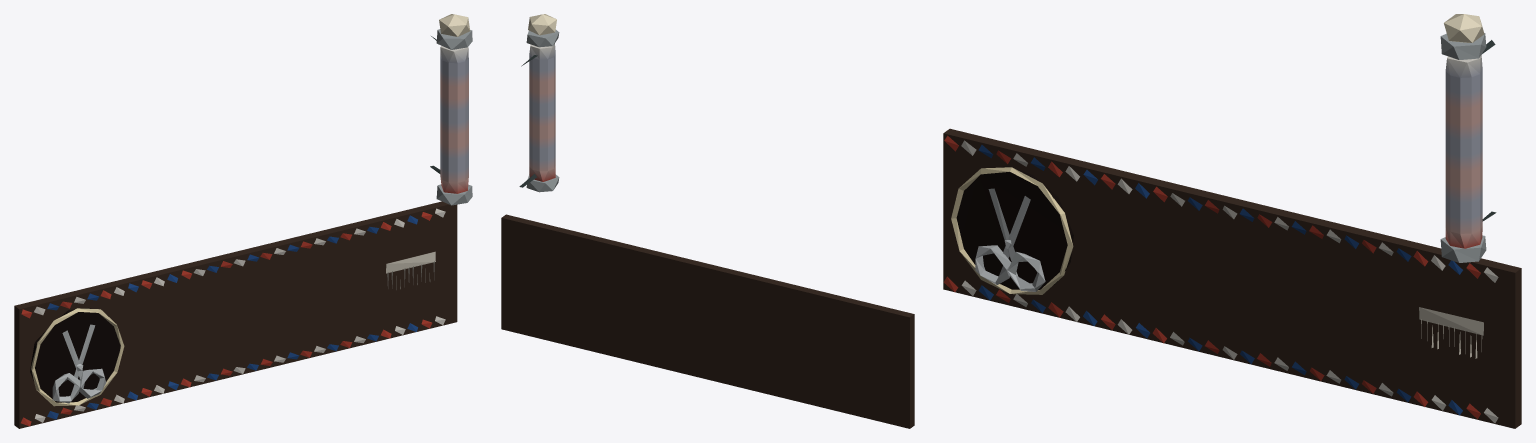
Rendered from bang_hot_toc_anh_ba_48.glb.
3 renders of one model, left to right at view 1: azimuth 30°, elevation 25°; view 2: azimuth 150°, elevation 25°; view 3: azimuth 330°, elevation 25°, orthographic. The views are drawn at different scales.
Visible parts, largest first — view 1: bang_hot_toc_anh_ba_48; view 2: bang_hot_toc_anh_ba_48; view 3: bang_hot_toc_anh_ba_48.
Part boxes in pixels (x1=…): bang_hot_toc_anh_ba_48: x1=14, y1=14, x2=472, y2=428; bang_hot_toc_anh_ba_48: x1=501, y1=14, x2=914, y2=428; bang_hot_toc_anh_ba_48: x1=943, y1=14, x2=1521, y2=428.
Size of the model in its own units: 4.6 by 3.27 by 0.5854.
